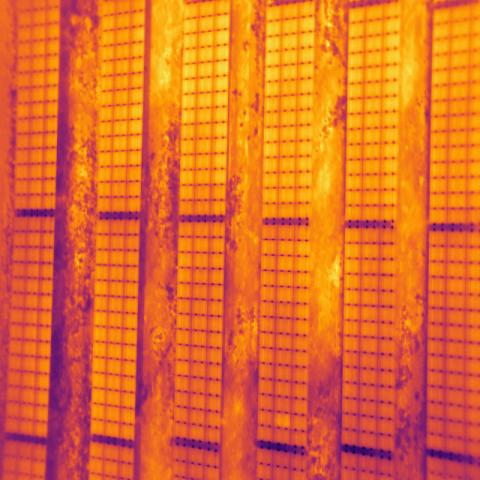fault: (273, 411, 291, 430)
